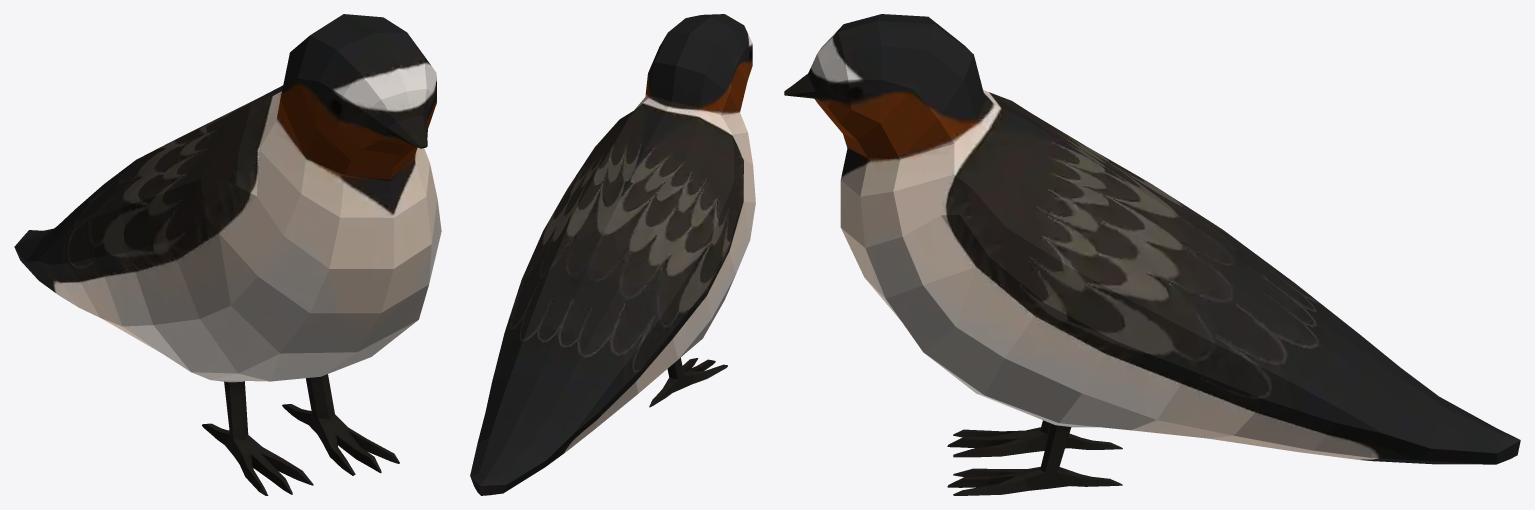
Rendered from wren.glb.
3 renders of one model, left to right at view 1: azimuth 30°, elevation 25°; view 2: azimuth 150°, elevation 25°; view 3: azimuth 270°, elevation 25°, orthographic. The views are drawn at different scales.
Visible parts, largest first — view 1: CliffSwallow_Mesh; view 2: CliffSwallow_Mesh; view 3: CliffSwallow_Mesh.
Part boxes in pixels (x1,y1,x2,y2): CliffSwallow_Mesh: [14, 14, 441, 495]; CliffSwallow_Mesh: [470, 14, 755, 495]; CliffSwallow_Mesh: [784, 14, 1520, 495].
Size of the model in its own units: 0.7101 by 1.34 by 2.
1 material, 1 textured.
